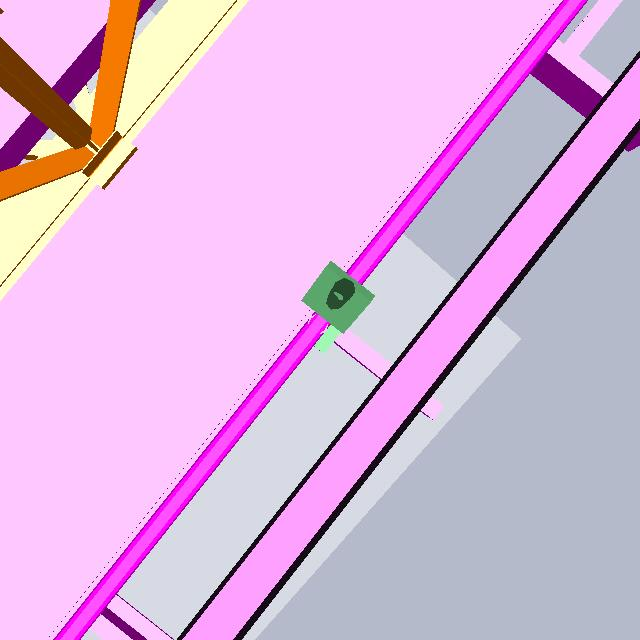Poste: (298, 258, 385, 363)
